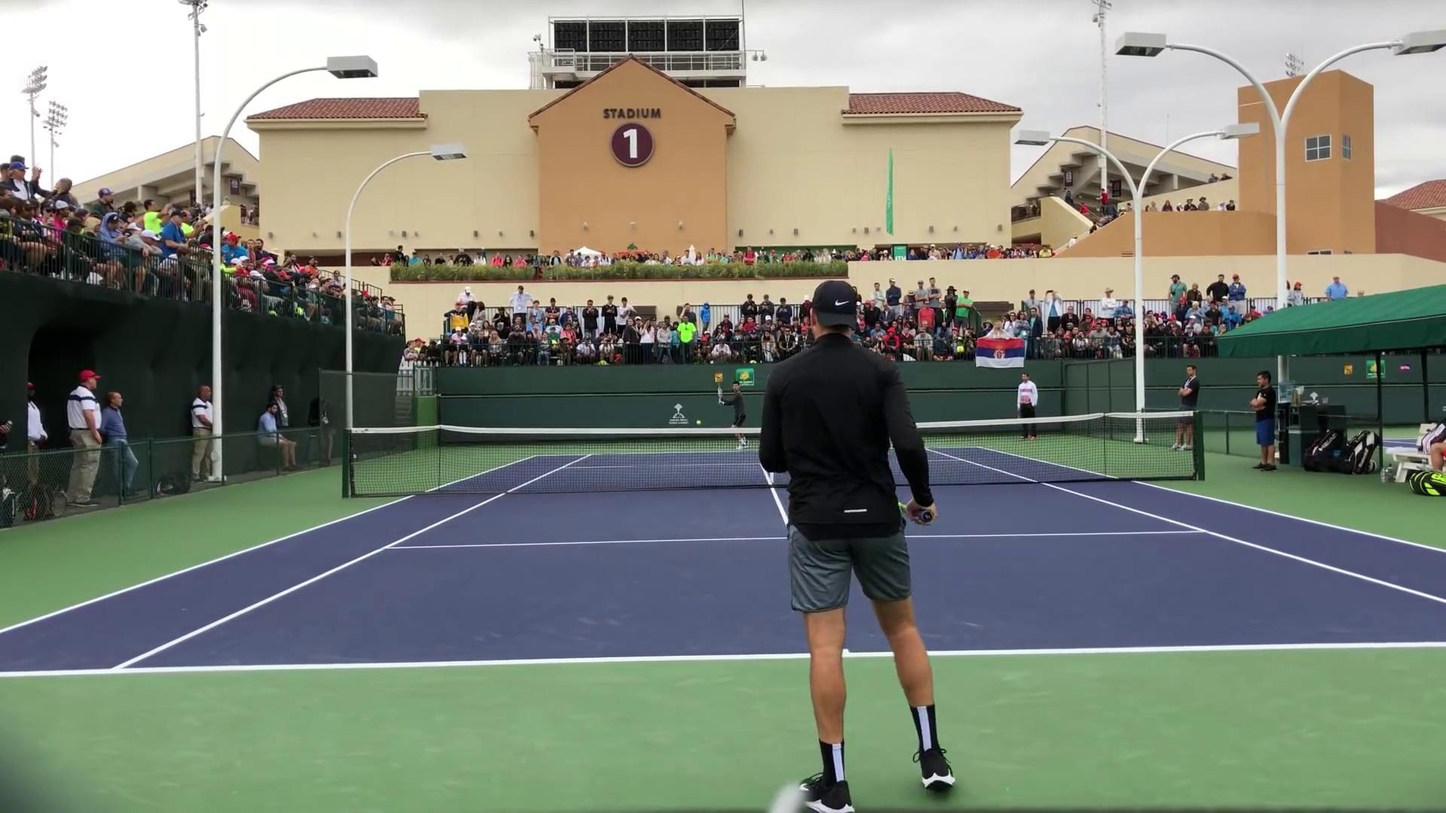ball: (692, 416, 706, 430)
